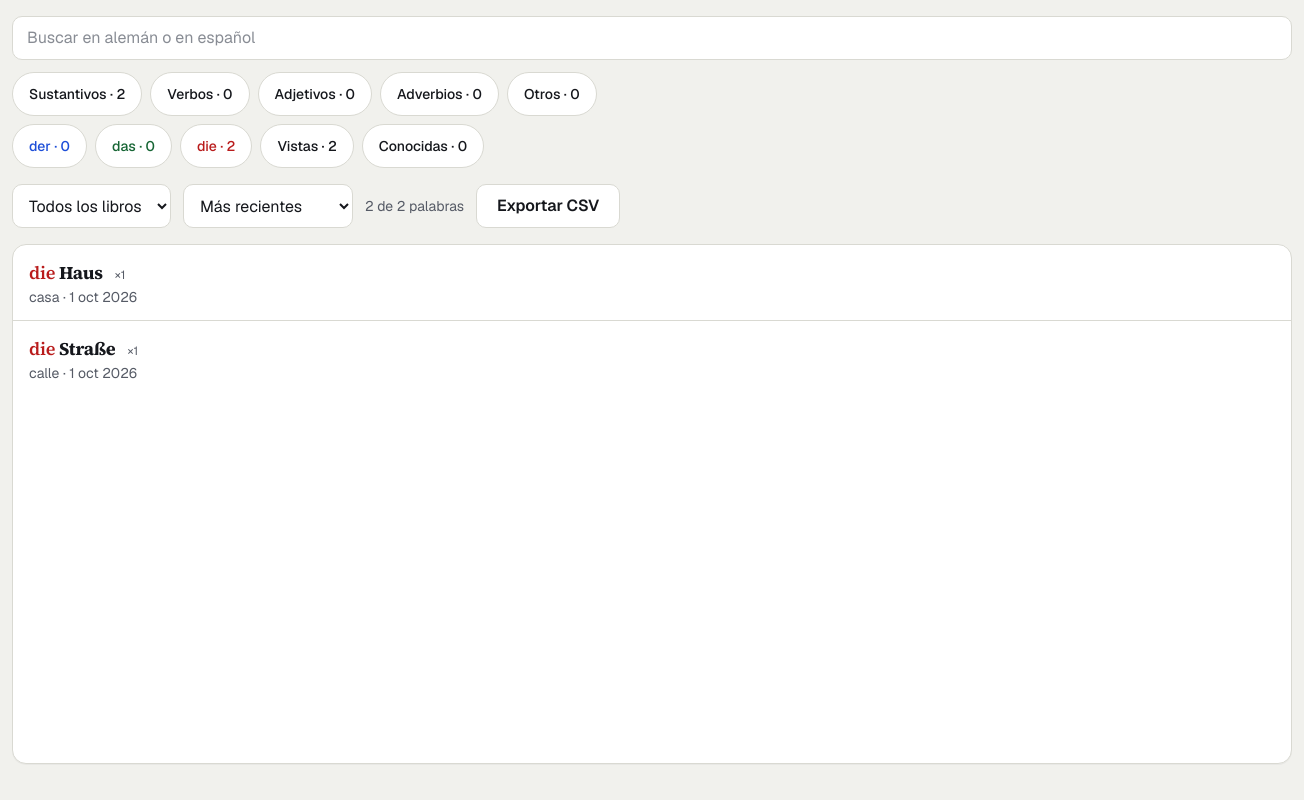
DictionaryView (RF-30, RF-31, RF-29) › busca por parcial sin distinguir mayúsculas, ß/ss ni tildes
This screenshot has width=1304, height=800.
Type "STRASSE" into the search field labelled "Buscar en alemán o en español" at (652, 38), box [12, 16, 1292, 60]
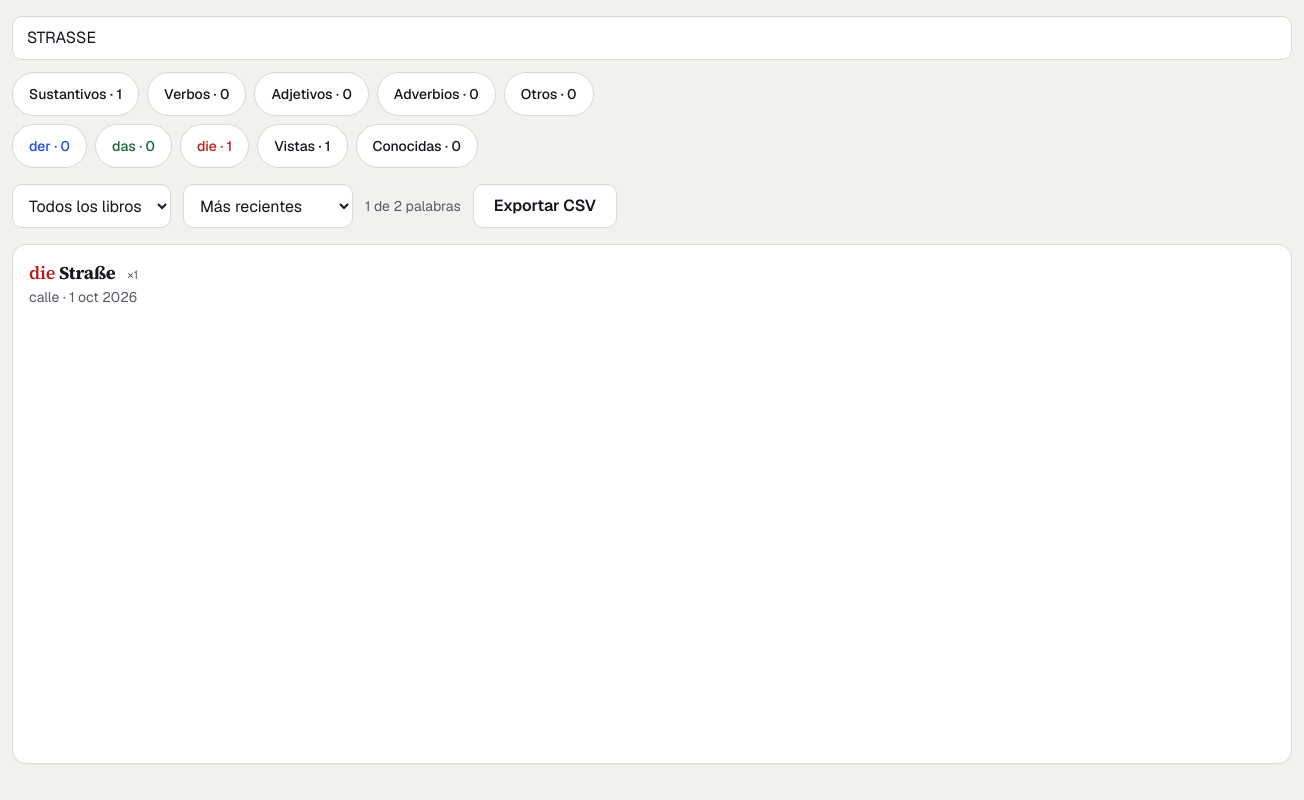
Expected: the text "1 de 2 palabras" is shown, [365, 196, 461, 216]
Replace the text in the search field named "Buscar en alemán o en español" with "cás" at (652, 38), box [12, 16, 1292, 60]
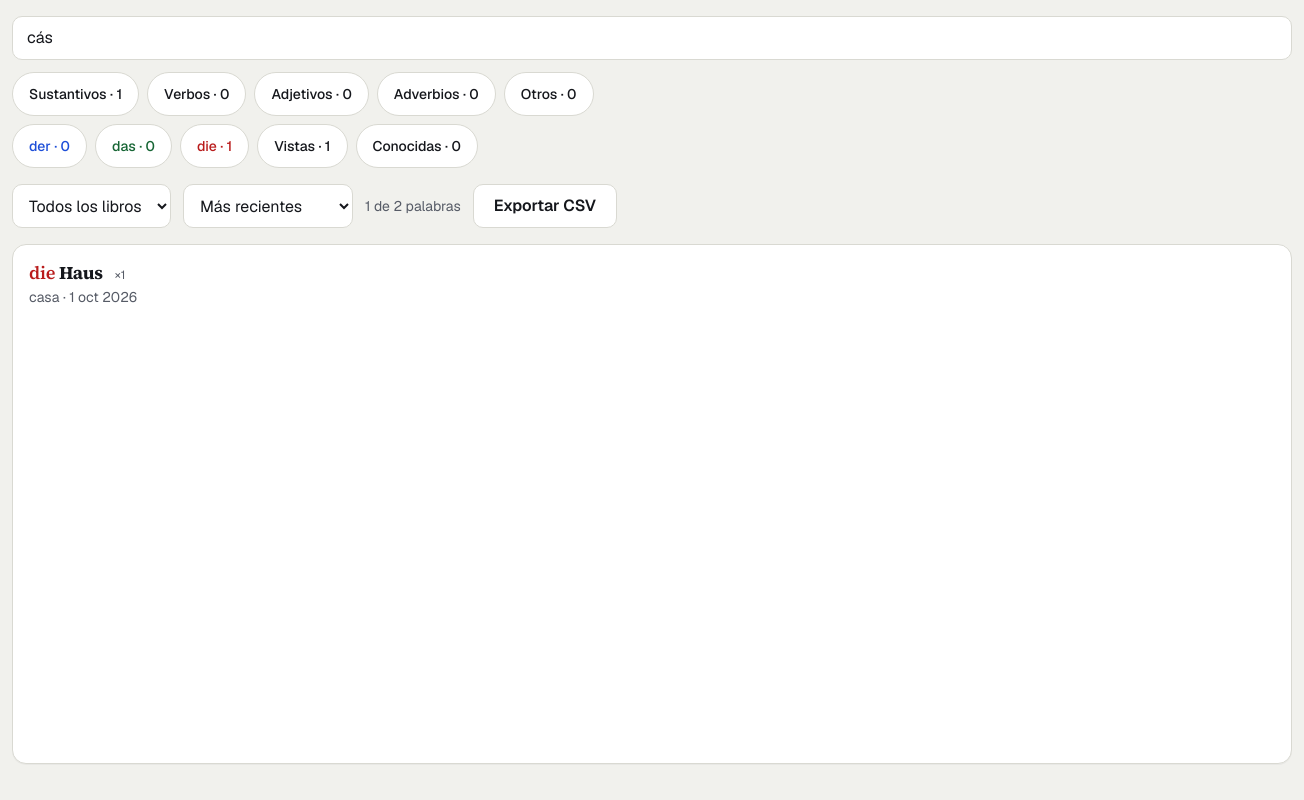
Expected: the text "die Haus" is shown, [29, 259, 103, 287]
